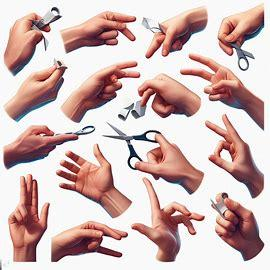Paper: (56, 142, 124, 212)
Scissor: (177, 51, 253, 121)
